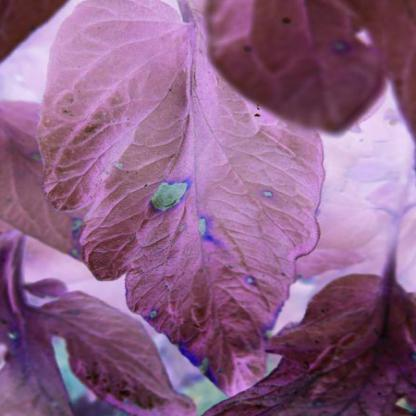Tomato Early blight leaf: (11, 73, 415, 274)
